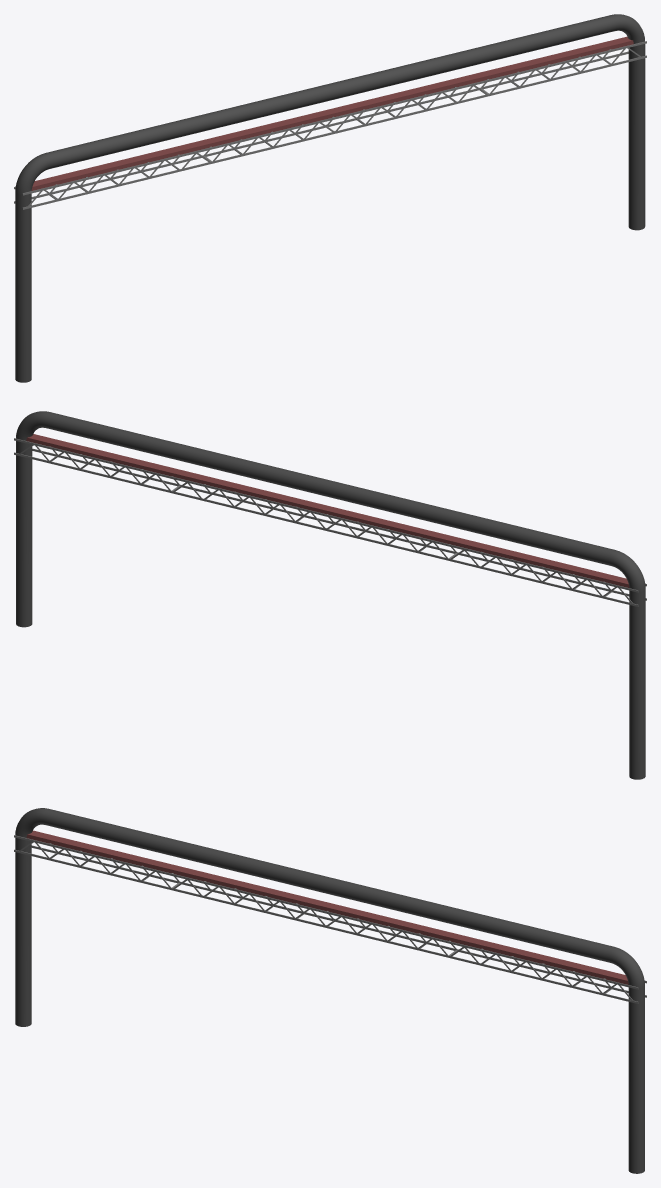
File: SM_pillar_overhead.fbx
The picture shows the model from 3 angles, top to bottom: view 1: azimuth 30°, elevation 25°; view 2: azimuth 150°, elevation 25°; view 3: azimuth 330°, elevation 25°; orthographic projection.
Parts seen in each view (by area): view 1: Line220; view 2: Line220; view 3: Line220.
Part boxes in pixels (x1,y1,x2,y2): Line220: [14, 14, 646, 382]; Line220: [14, 411, 646, 779]; Line220: [14, 808, 646, 1173].
Size of the model in its own units: 879 by 294 by 21.84.
